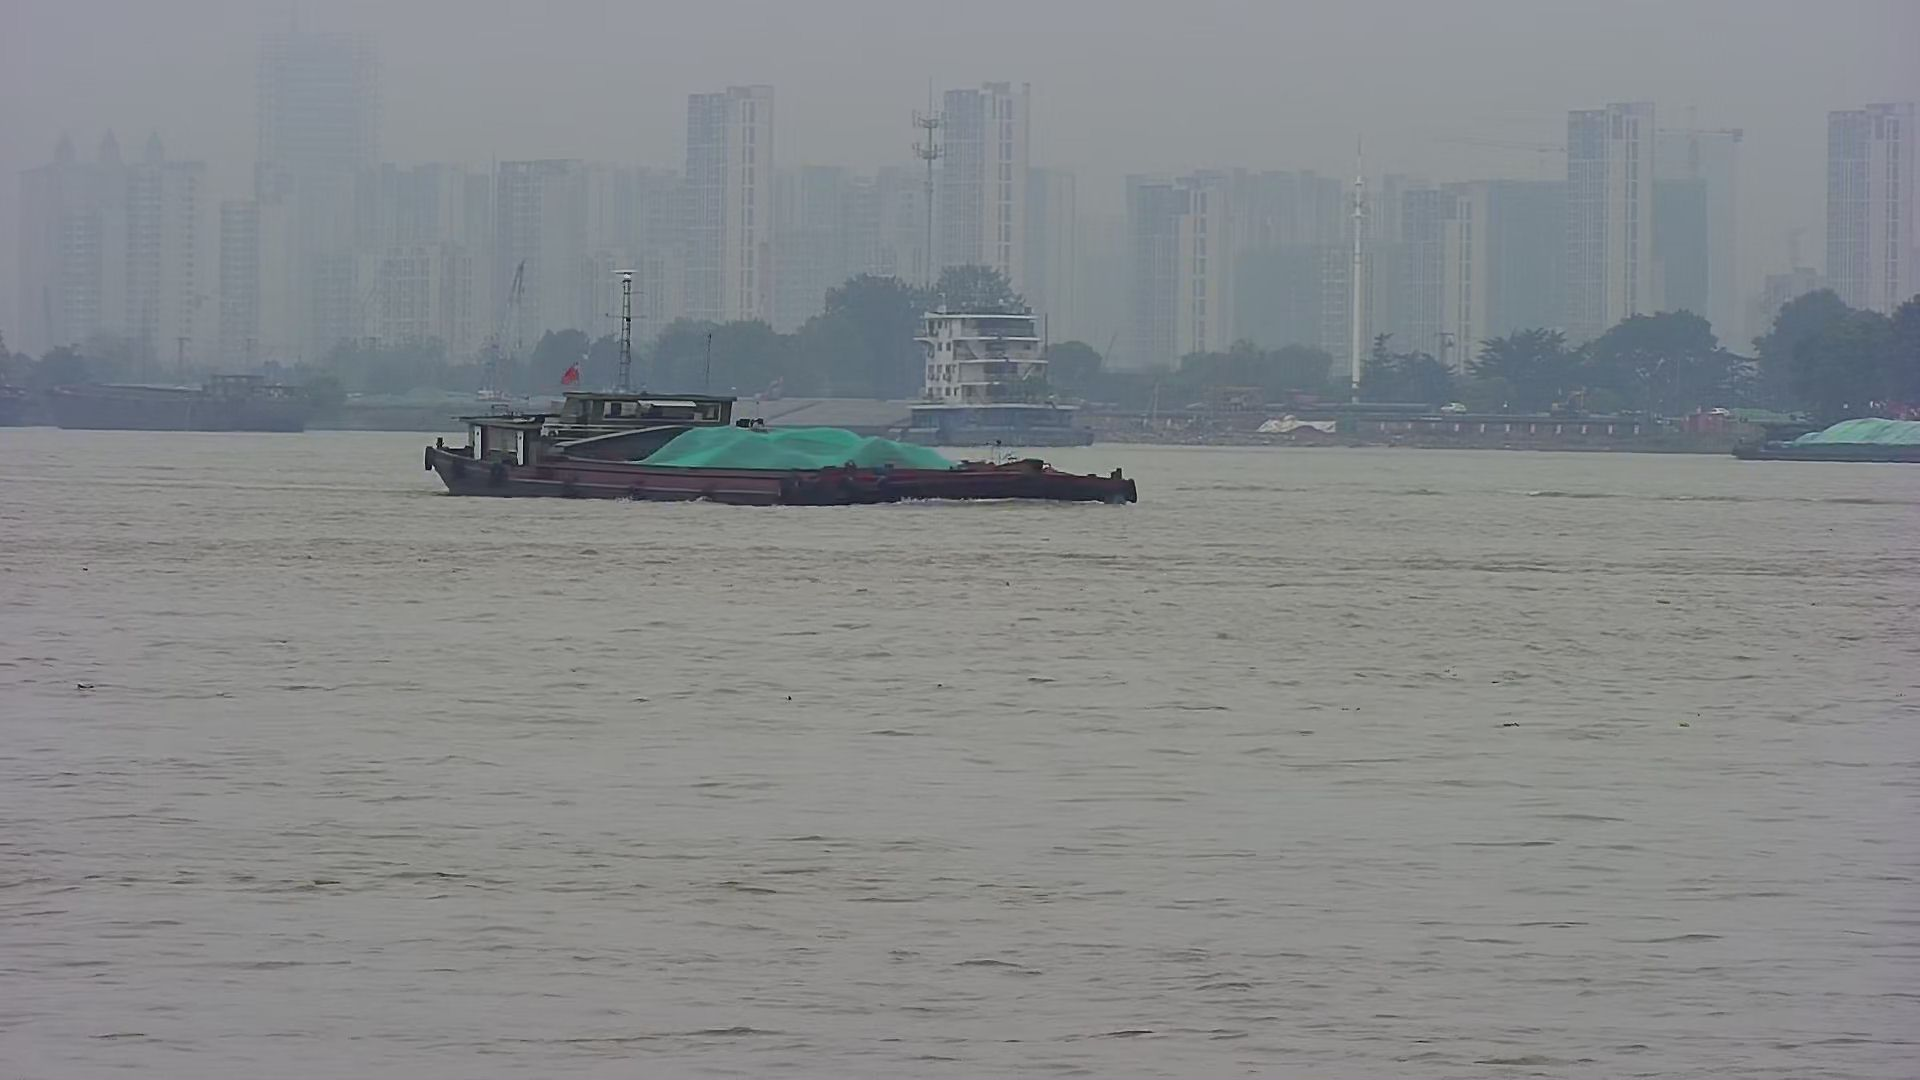ship: (400, 367, 1151, 512), (702, 280, 1124, 454), (32, 351, 332, 436)
